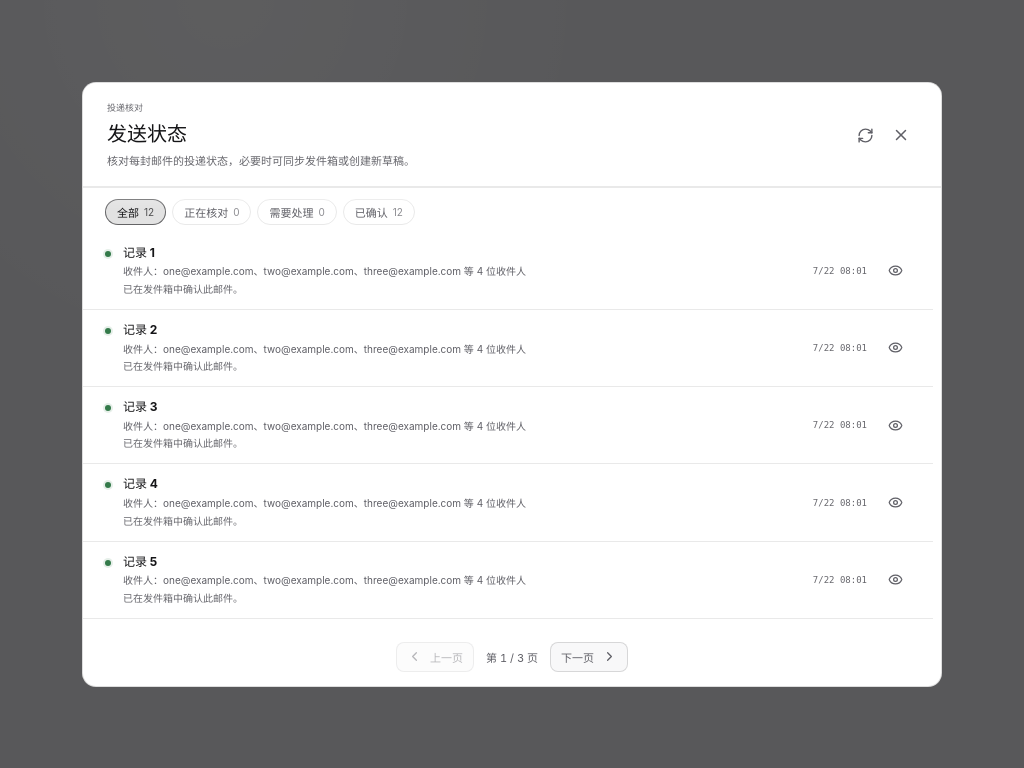
Test: sending status modal read-only details dialog (client) › pins the list height and pages through records without reflowing the dialog
Expected: the number of list items with class "sending-status-row" is 5, x1=83 y1=232 x2=933 y2=310; x1=83 y1=310 x2=933 y2=387; x1=83 y1=387 x2=933 y2=464; x1=83 y1=464 x2=933 y2=541; x1=83 y1=541 x2=933 y2=619
Expected: the element with class "sending-status-pager" is shown, x1=396 y1=641 x2=628 y2=671
Turning the page changes the rows but keeps the pinned viewport size.
Click the button "下一页": {"x": 589, "y": 656} x1=550 y1=641 x2=628 y2=671
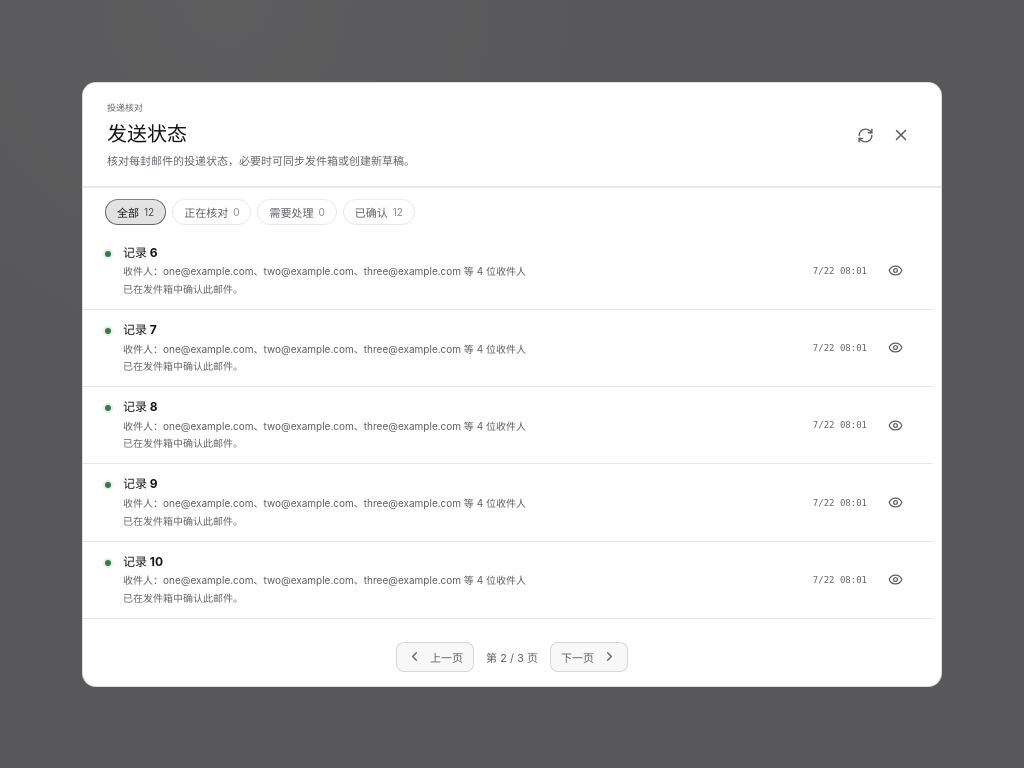
Expected: the number of list items with class "sending-status-row" is 5, x1=83 y1=232 x2=933 y2=310; x1=83 y1=310 x2=933 y2=387; x1=83 y1=387 x2=933 y2=464; x1=83 y1=464 x2=933 y2=541; x1=83 y1=541 x2=933 y2=619
Click the button "正在核对 0": {"x": 212, "y": 211} x1=172 y1=198 x2=252 y2=224
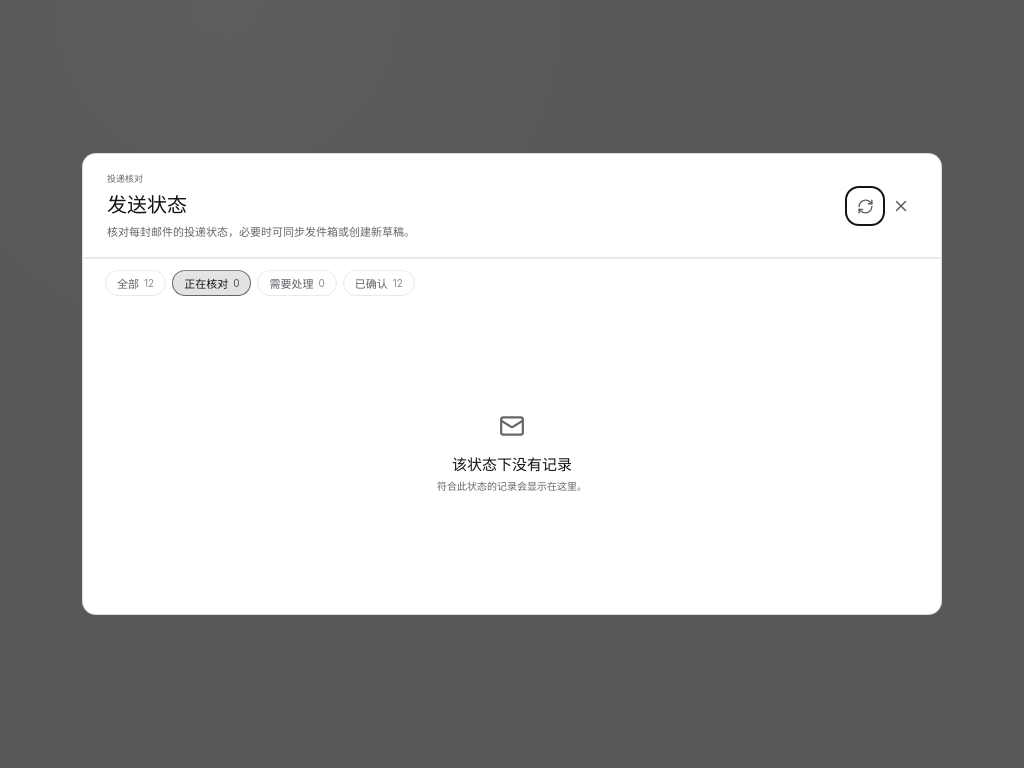
Result: no list items with class "sending-status-row" are shown
Result: the element with class "sending-status-pager" is gone
